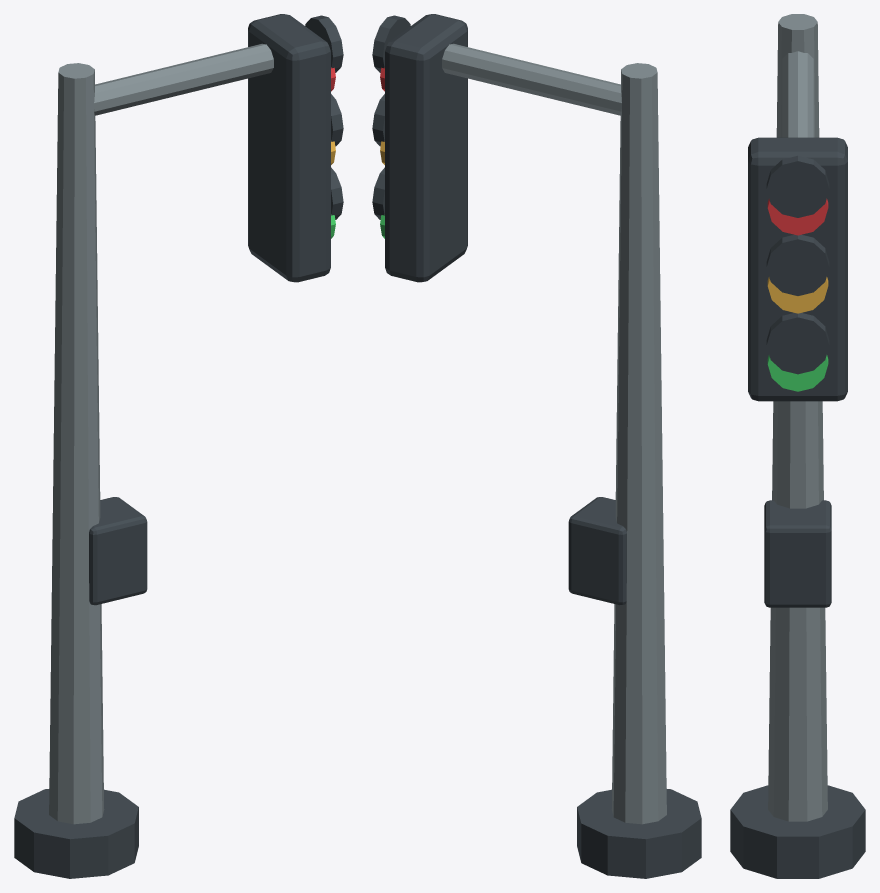
File: TrafficLight.fbx
3 renders of one model, left to right at view 1: azimuth 30°, elevation 25°; view 2: azimuth 150°, elevation 25°; view 3: azimuth 270°, elevation 25°, orthographic. The views are drawn at different scales.
Parts seen in each view (by area): view 1: TrafficLight; view 2: TrafficLight; view 3: TrafficLight.
Boxes of the visible parts, box(x1,y1,x2,y2) form: TrafficLight: box(14, 14, 343, 878); TrafficLight: box(372, 14, 701, 878); TrafficLight: box(730, 14, 865, 878).
Size of the model in its own units: 160 by 393 by 58.
